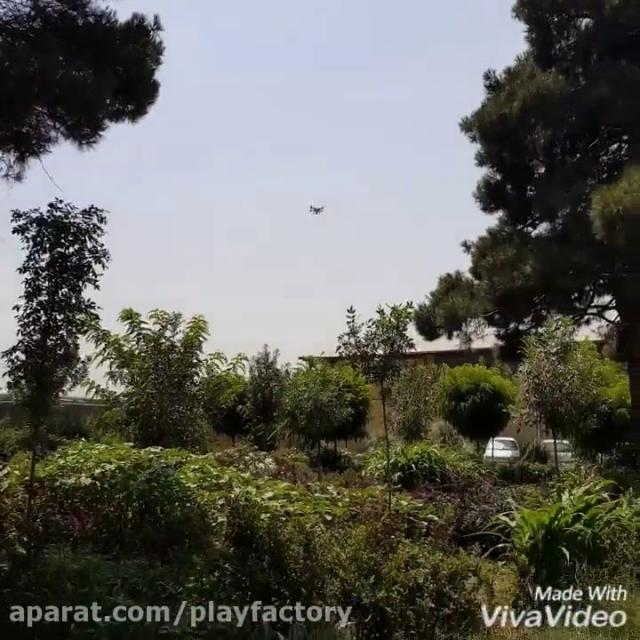drone: (302, 195, 332, 221)
